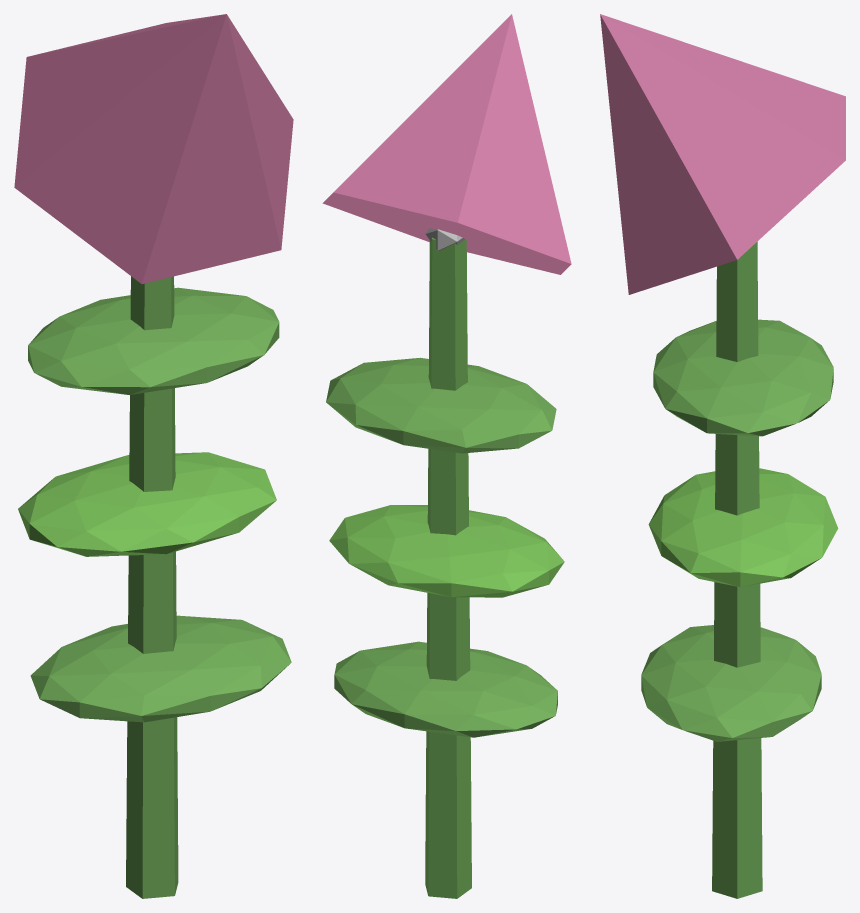
Rendered from catharanthus-roseus.glb.
3 renders of one model, left to right at view 1: azimuth 30°, elevation 25°; view 2: azimuth 150°, elevation 25°; view 3: azimuth 270°, elevation 25°, orthographic. The views are drawn at different scales.
Parts seen in each view (by area): view 1: trumpet, stem, leaf0, leaf1, leaf2; view 2: trumpet, stem, leaf2, leaf1, leaf0; view 3: trumpet, stem, leaf2, leaf1, leaf0.
Part boxes in pixels (x1,y1,x2,y2): trumpet: (14, 14, 293, 283); stem: (126, 276, 178, 898); leaf0: (30, 615, 291, 722); leaf1: (18, 452, 276, 556); leaf2: (28, 287, 279, 394); trumpet: (322, 14, 571, 274); stem: (425, 237, 471, 898); leaf2: (326, 357, 556, 453); leaf1: (329, 505, 564, 597); leaf0: (334, 641, 557, 737); trumpet: (600, 14, 845, 294); stem: (712, 241, 762, 898); leaf2: (653, 319, 833, 436); leaf1: (648, 468, 838, 587); leaf0: (641, 625, 821, 741).
Size of the model in its own units: 0.16 by 0.5078 by 0.1295.
